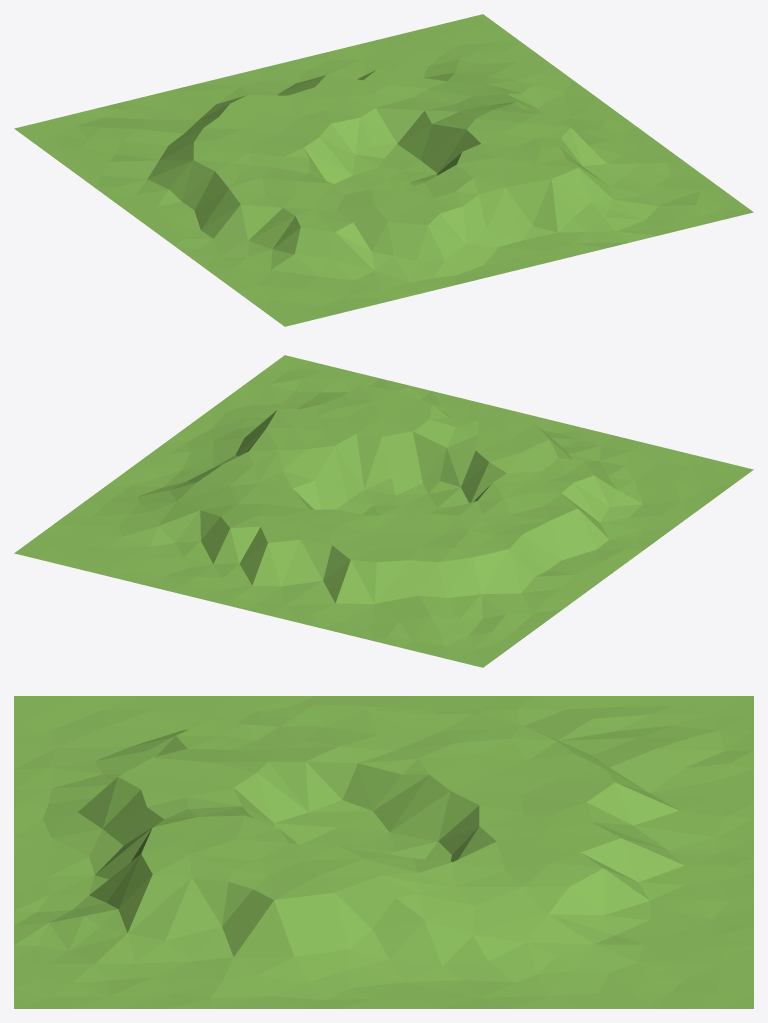
The model's file is MT_Terrain_M_d_20_LOD.fbx.
The picture shows the model from 3 angles, top to bottom: view 1: azimuth 30°, elevation 25°; view 2: azimuth 150°, elevation 25°; view 3: azimuth 270°, elevation 25°; orthographic projection. The views are drawn at different scales.
Visible parts, largest first — view 1: MT_Terrain_M_d_20_LOD0; view 2: MT_Terrain_M_d_20_LOD0; view 3: MT_Terrain_M_d_20_LOD0.
Boxes of the visible parts, x1=… form: MT_Terrain_M_d_20_LOD0: x1=14, y1=14, x2=753, y2=326; MT_Terrain_M_d_20_LOD0: x1=14, y1=355, x2=753, y2=667; MT_Terrain_M_d_20_LOD0: x1=14, y1=696, x2=753, y2=1008.
Size of what is drawn, in the model's own units: 5000 by 403 by 5000.
